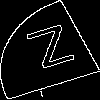Z: (25, 24, 83, 78)
